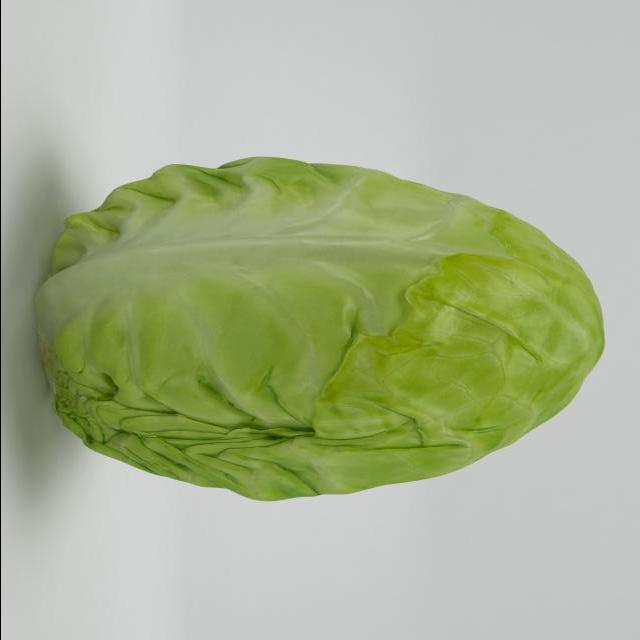cabbage: (34, 149, 606, 505)
